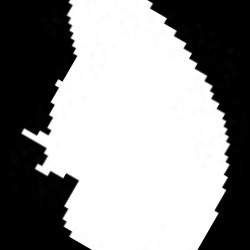spot: (21, 2, 230, 249)
